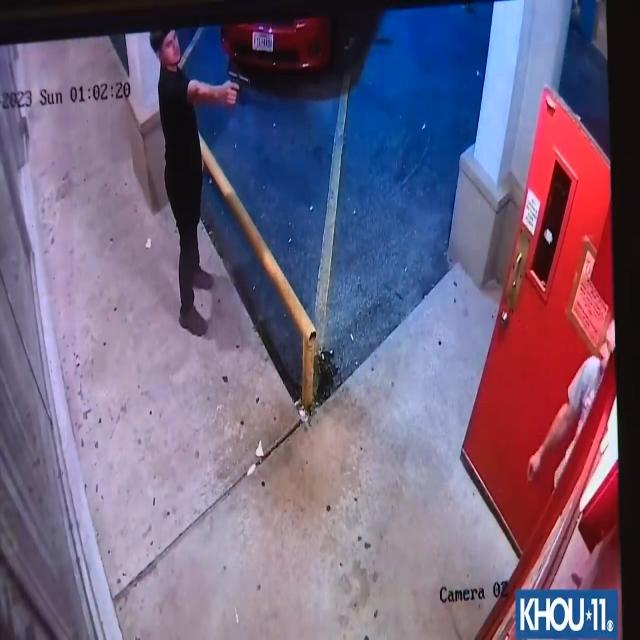Gun_Holder: (226, 68, 252, 105)
Person: (147, 29, 238, 338)
